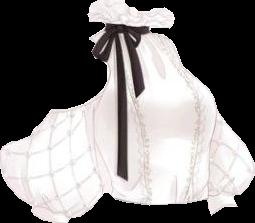Bodice: (87, 0, 218, 204)
Neckline: (87, 0, 177, 23)
Sleeve: (0, 93, 109, 222)
Sleeveline: (32, 205, 70, 220), (93, 93, 100, 121)
Waistline: (109, 193, 208, 206)
